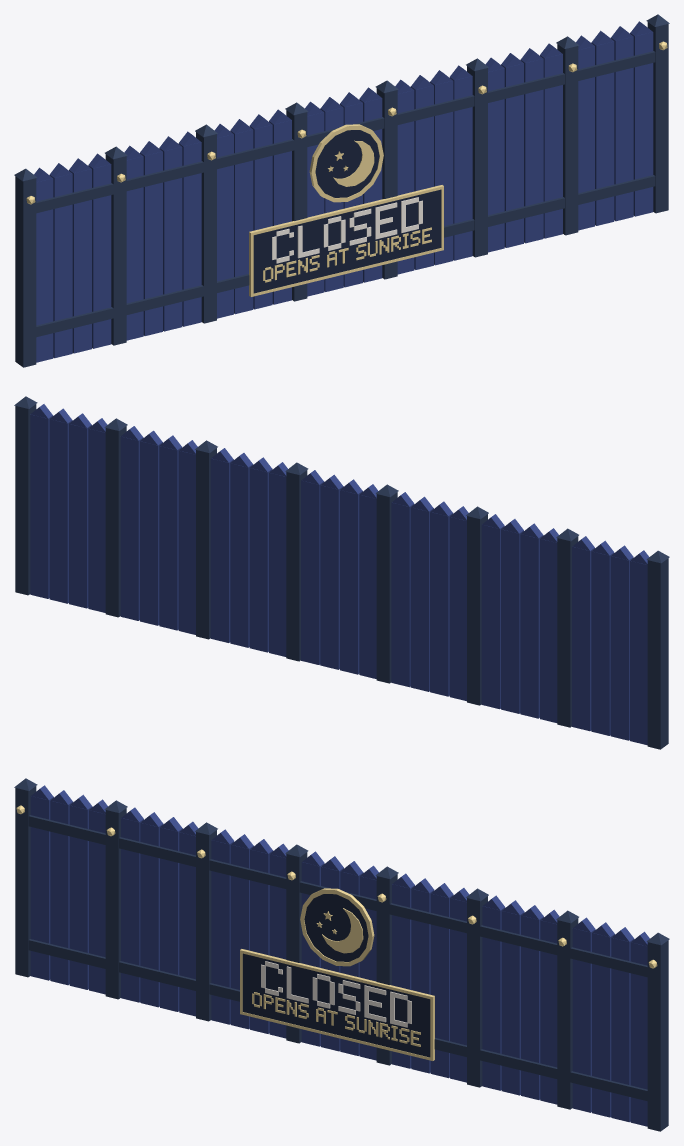
File: CatCafe_Sewer_NightFence.glb
3 renders of one model, top to bottom at view 1: azimuth 30°, elevation 25°; view 2: azimuth 150°, elevation 25°; view 3: azimuth 330°, elevation 25°, orthographic.
Visible parts, largest first — view 1: CatCafe_Sewer_NightFence, CatCafe_Sewer_NightFence_Moon_Bulb; view 2: CatCafe_Sewer_NightFence; view 3: CatCafe_Sewer_NightFence, CatCafe_Sewer_NightFence_Moon_Bulb.
Part boxes in pixels (x1=…): CatCafe_Sewer_NightFence: x1=14, y1=14, x2=669, y2=367; CatCafe_Sewer_NightFence_Moon_Bulb: x1=26, y1=41, x2=667, y2=296; CatCafe_Sewer_NightFence: x1=14, y1=396, x2=669, y2=749; CatCafe_Sewer_NightFence: x1=14, y1=778, x2=669, y2=1131; CatCafe_Sewer_NightFence_Moon_Bulb: x1=16, y1=805, x2=657, y2=1060.
Bounding box in the file's own units: 30.06 × 8.64 × 0.9251.
1 material, 1 textured.
